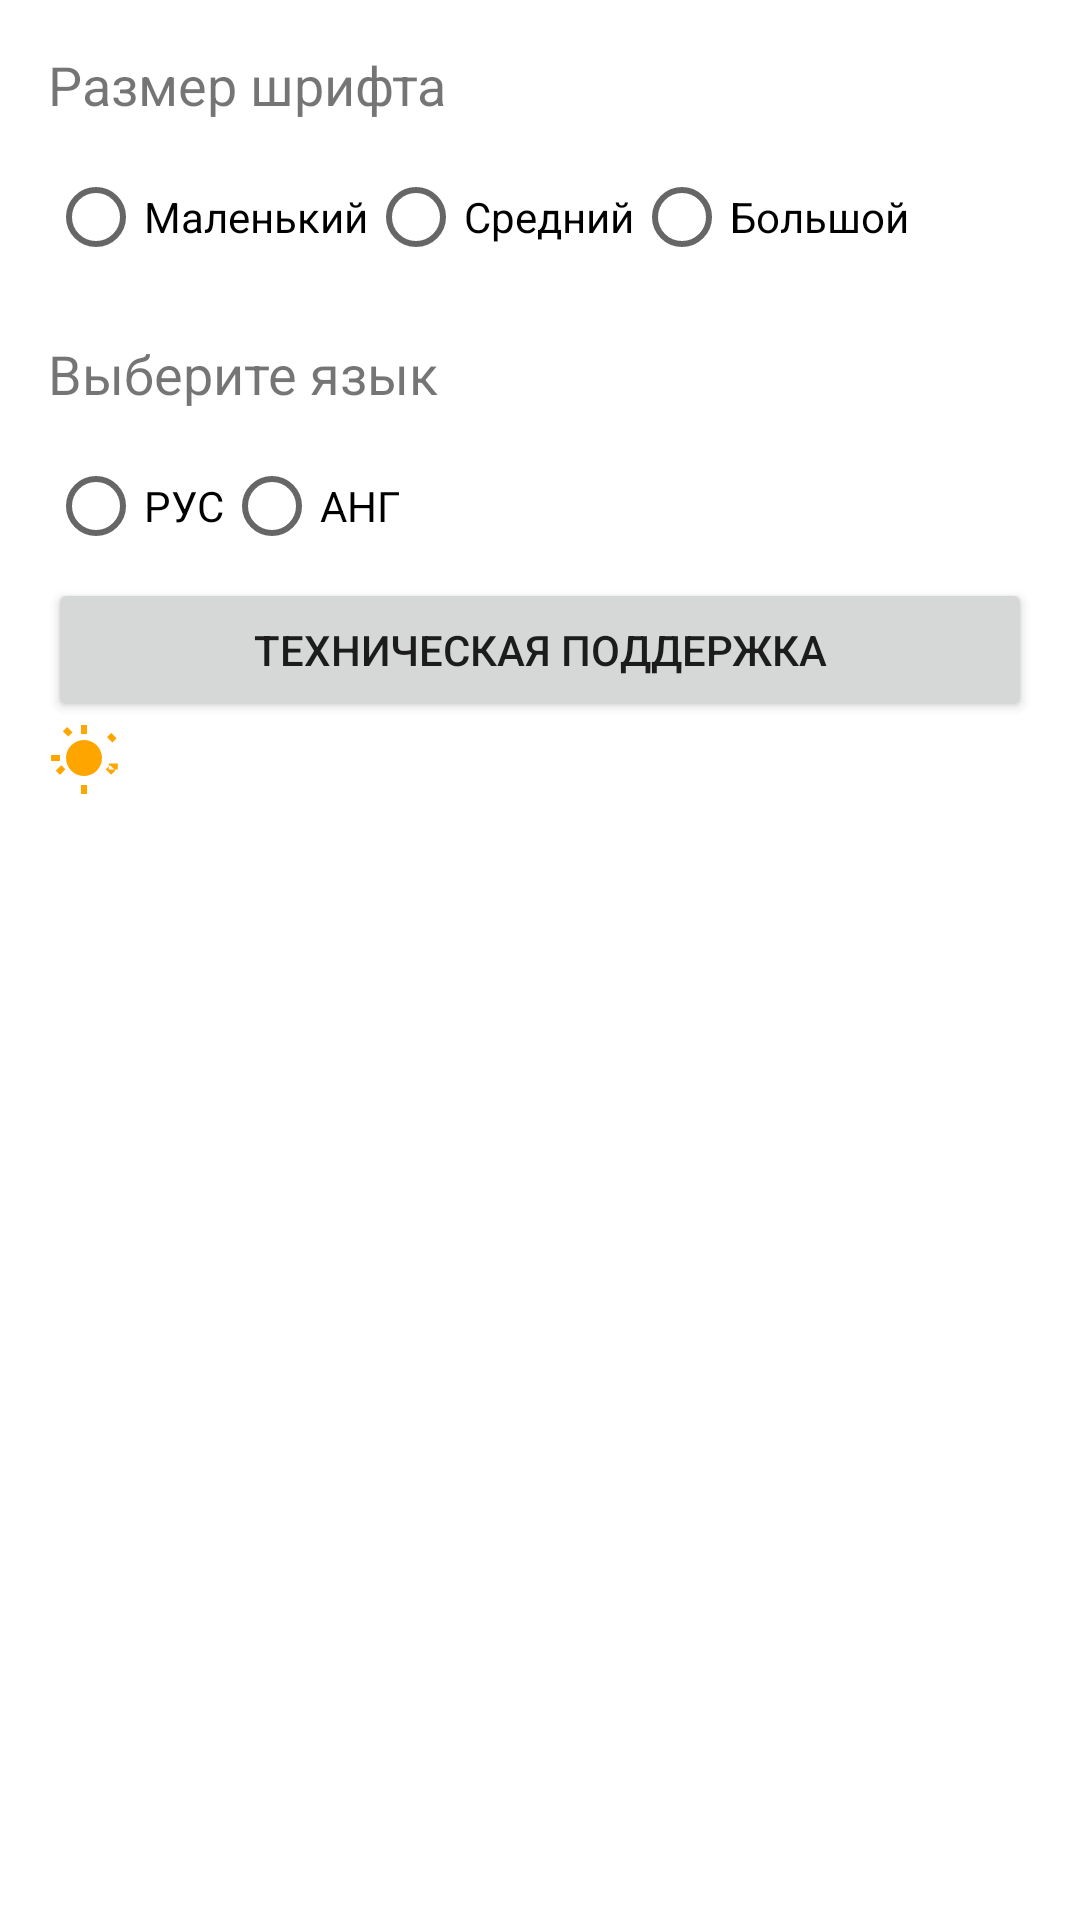

Icons on this 1080×1920 Android screen, each with its box as region(x1, y1, x2, y2):
sun: region(51, 725, 118, 794)
